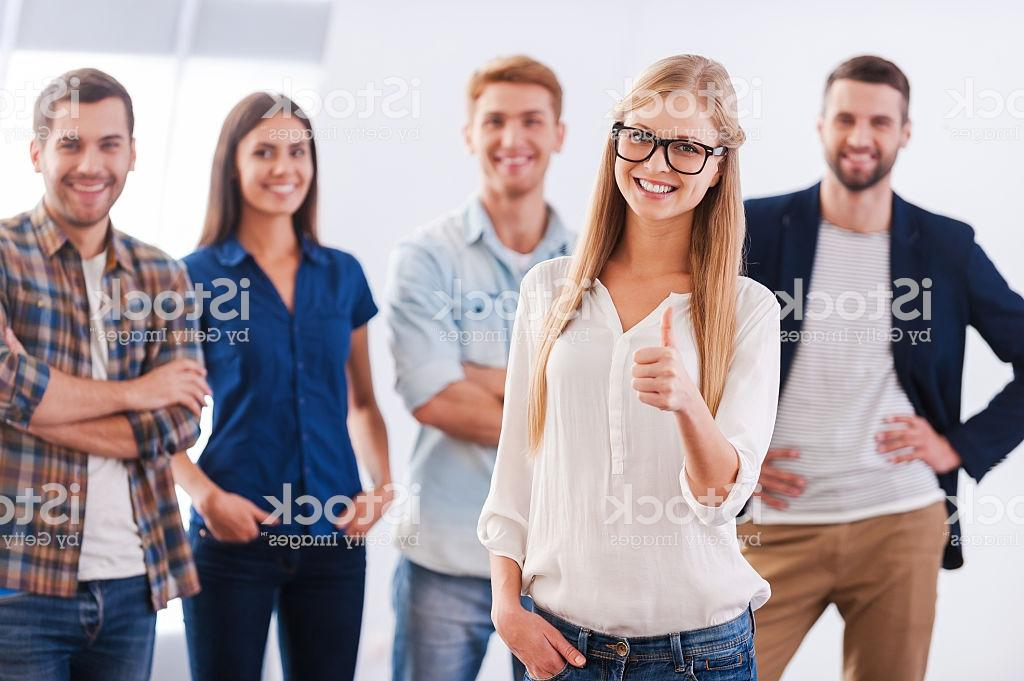thumbsup: (629, 303, 690, 414)
